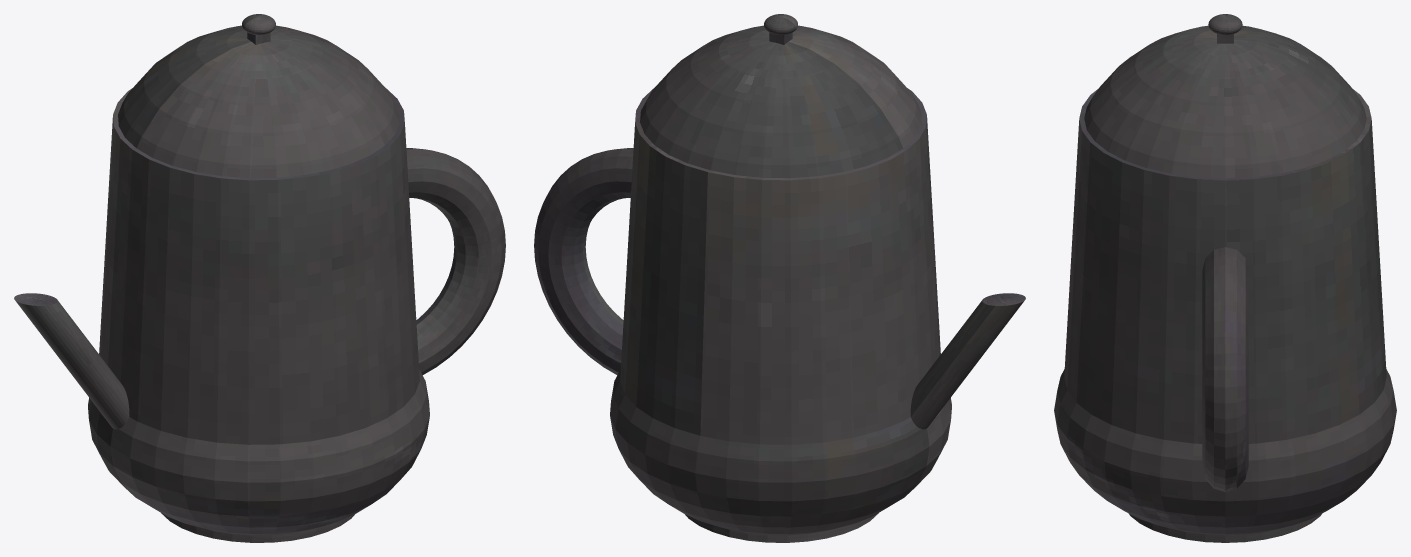
File: pot.glb
The picture shows the model from 3 angles, left to right: view 1: azimuth 30°, elevation 25°; view 2: azimuth 150°, elevation 25°; view 3: azimuth 270°, elevation 25°; orthographic projection.
Visible parts, largest first — view 1: Torus; view 2: Torus; view 3: Torus.
Boxes of the visible parts, <box> form: Torus: <box>14,14,505,542</box>; Torus: <box>534,14,1025,542</box>; Torus: <box>1054,14,1396,542</box>.
Size of the model in its own units: 3.28 by 3.11 by 2.
Materials: 1 (1 with a texture image).
